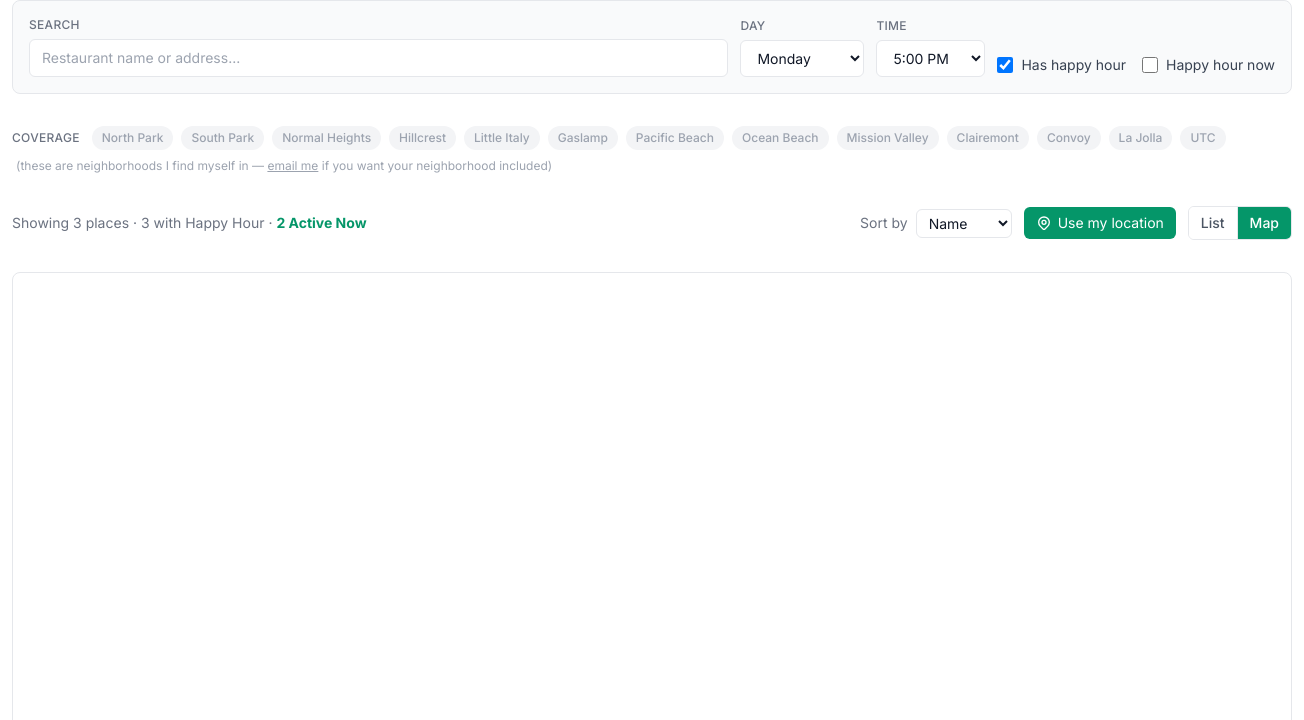
Test case: HappyHourFinder - Filter Combinations › Given search "Sushi", day is Tuesday, and Happy hour now checked, When all three filters are active, Then zero places are shown and "No places found" appears
The width and height of the screenshot is (1304, 720).
Step 1. Click the button "List" → (1213, 223), box [1189,207,1237,239]
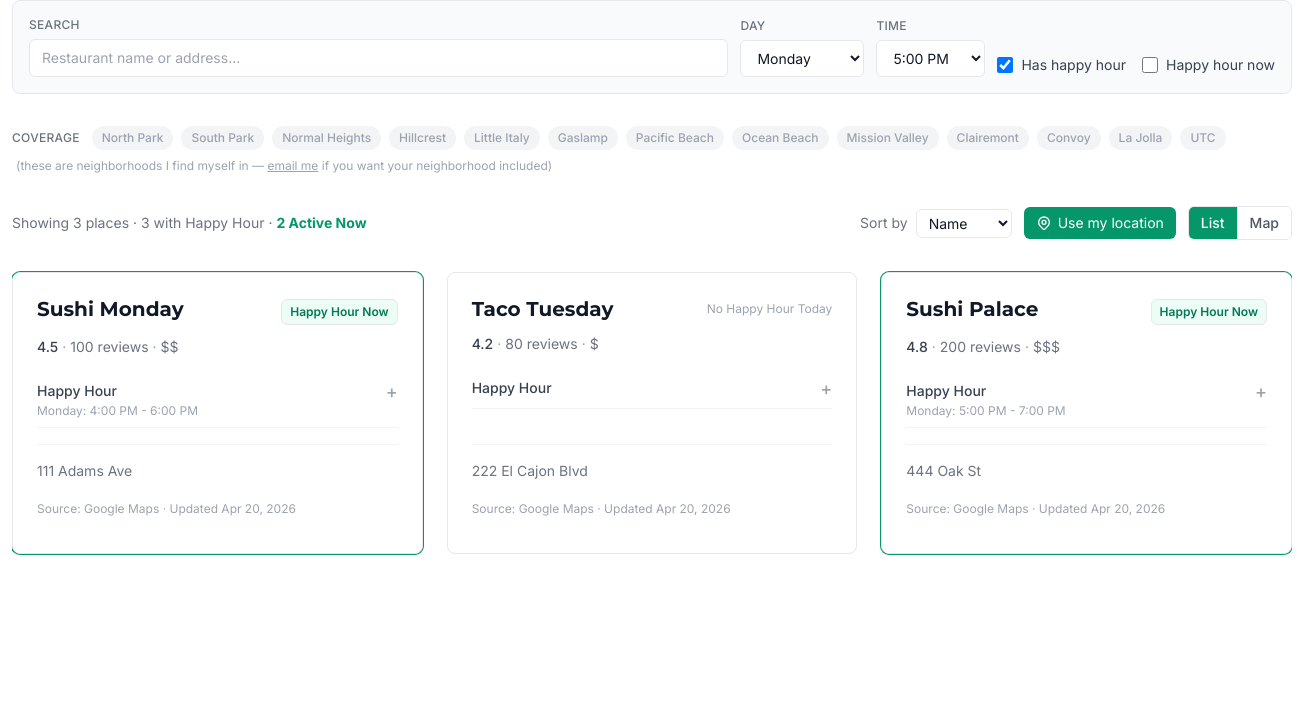
Step 2. Type "Sushi" into the field with placeholder "Restaurant name or address..." → (379, 58), box [29,39,728,77]
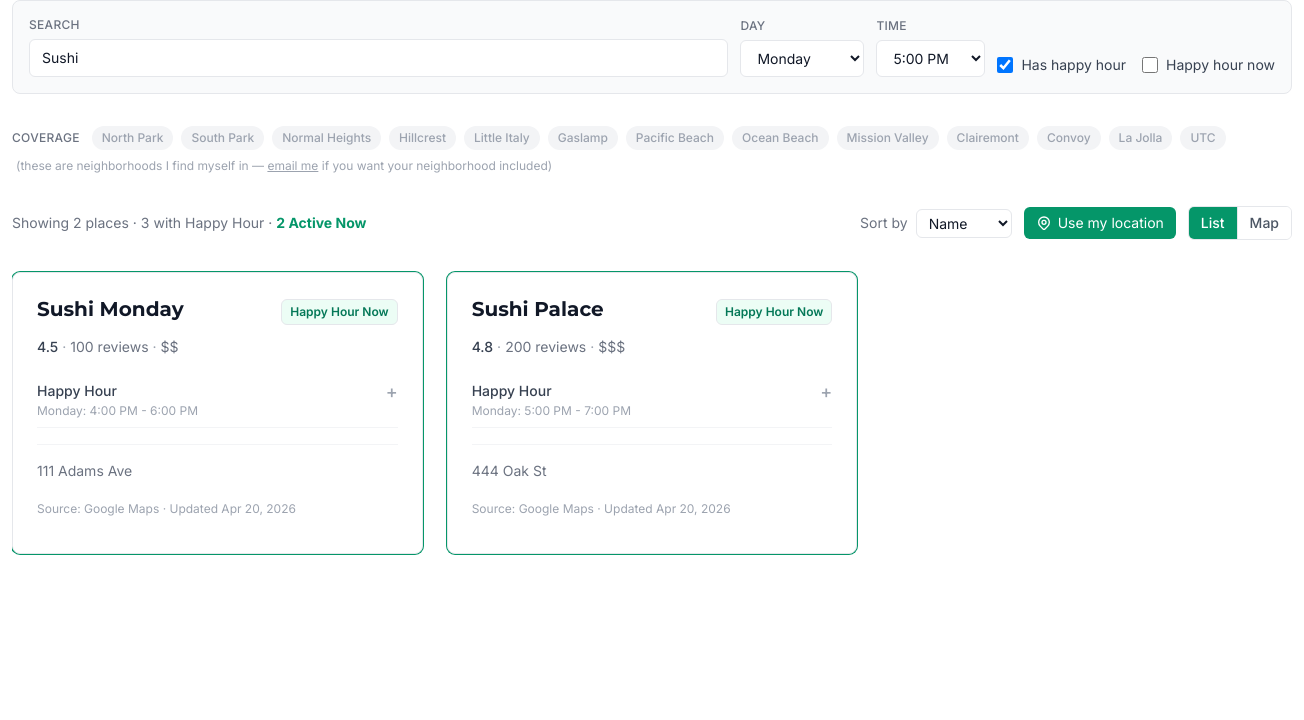
Step 3. Select "Tuesday" in the dropdown labelled "Day" → (802, 58), box [740,40,864,77]
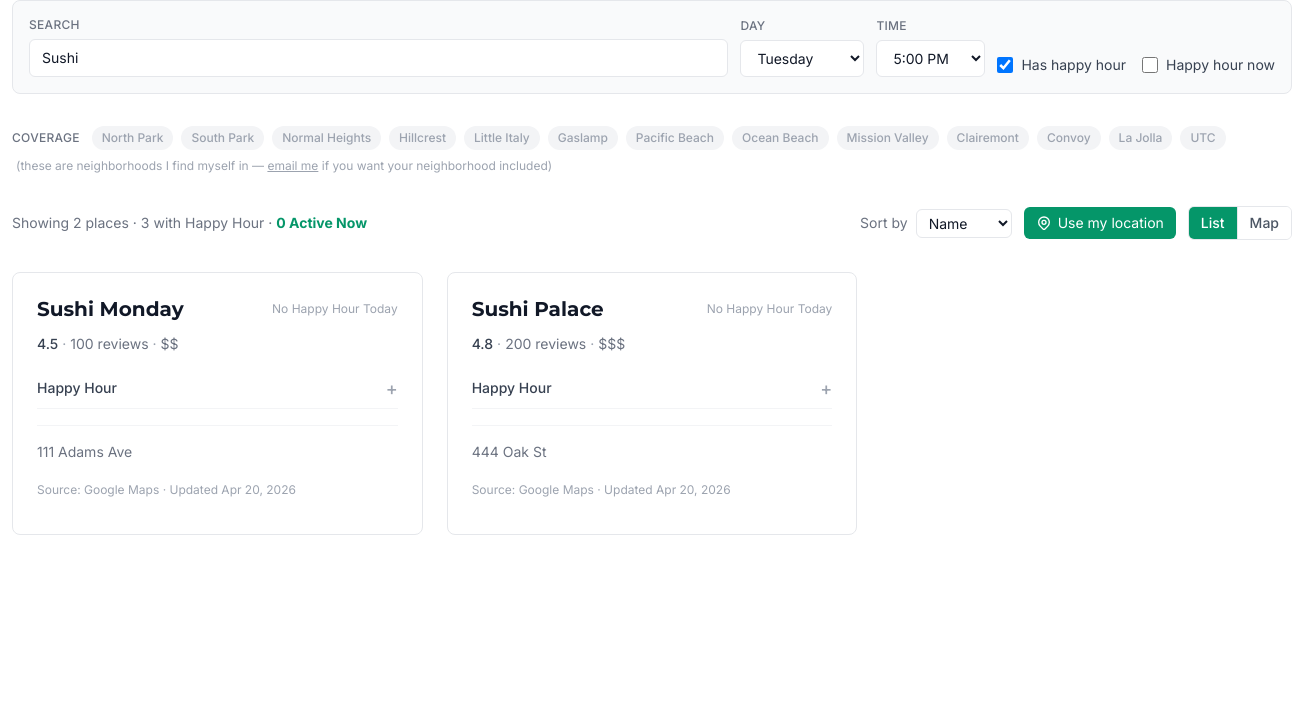
Step 4. Click the checkbox labelled "Happy hour now" → (1150, 65), box [1142,57,1158,73]
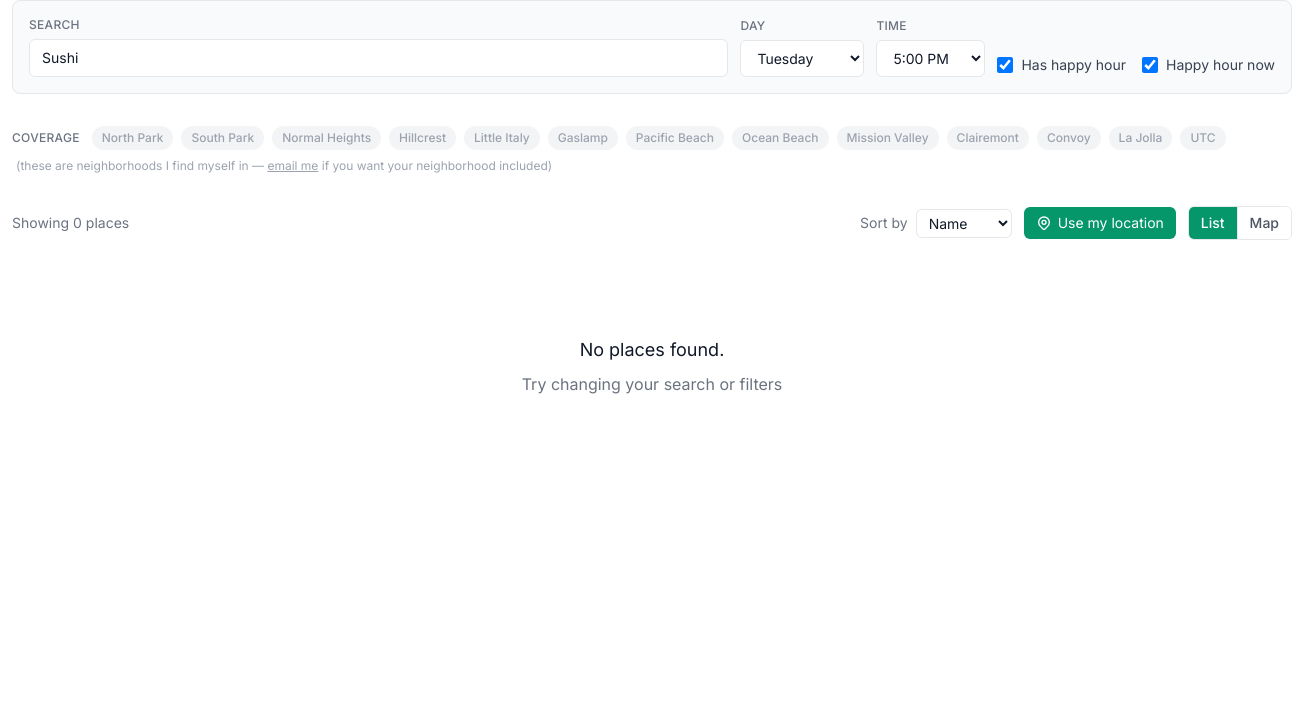
Now the heading "Sushi Monday" is gone
Now the heading "Sushi Palace" is gone
Now the text "No places found." is shown, box [580,339,724,360]
